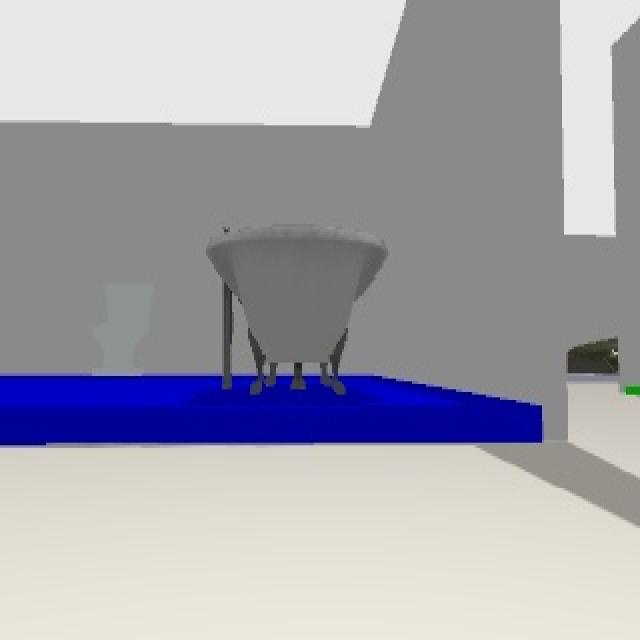bathtub: (204, 224, 390, 395)
